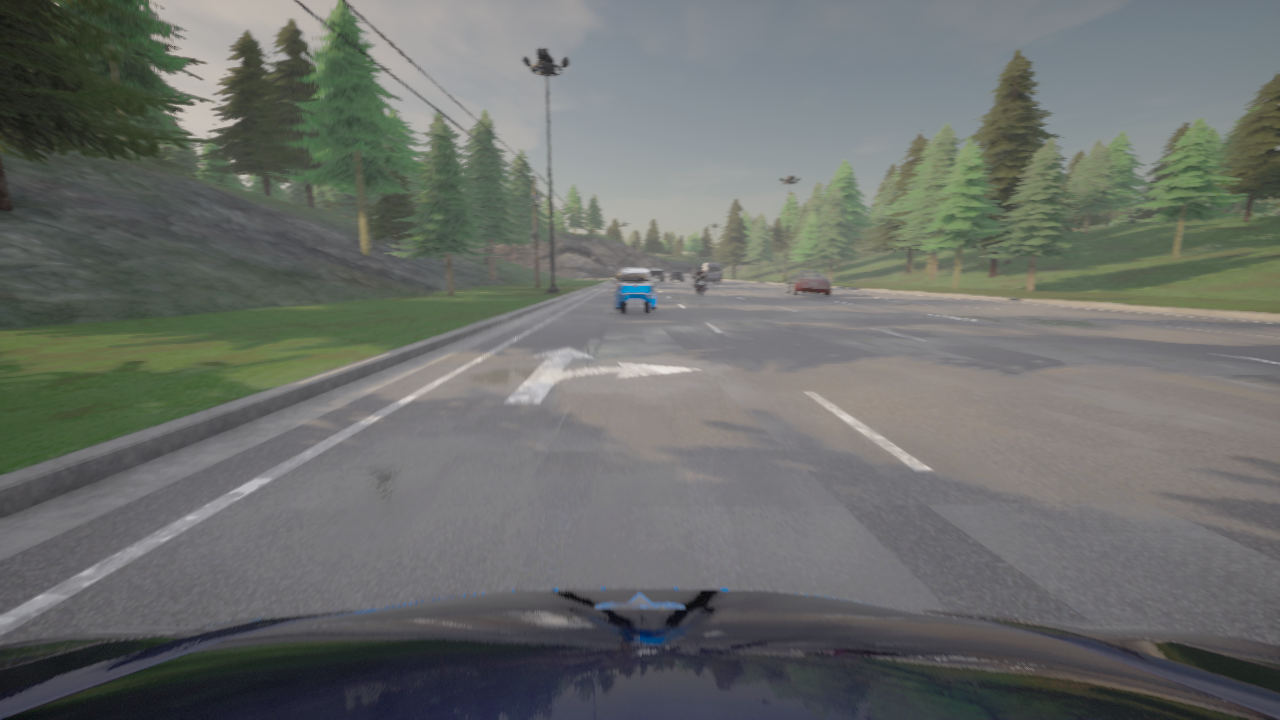cyclist: (0, 588, 1279, 719), (613, 268, 657, 313), (786, 271, 830, 295), (702, 262, 721, 283), (691, 274, 707, 296), (649, 268, 664, 281), (615, 269, 623, 291), (670, 270, 683, 280)
